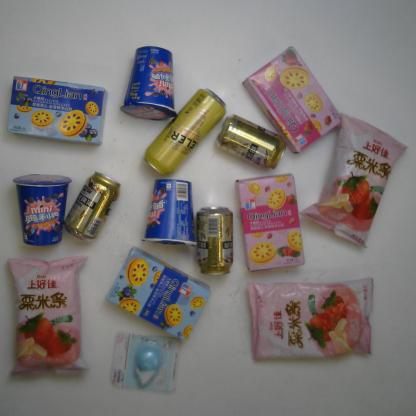Alcohol: (143, 88, 227, 176), (63, 171, 122, 242), (215, 113, 287, 170), (195, 206, 234, 276)
Dessert: (242, 46, 342, 154), (106, 246, 211, 341), (235, 173, 306, 273), (7, 76, 108, 145), (119, 46, 178, 121), (12, 174, 72, 246), (140, 178, 197, 247)
Puffed Food: (299, 112, 408, 249), (246, 277, 374, 363), (6, 256, 91, 378)
Stationery: (110, 331, 182, 392)
